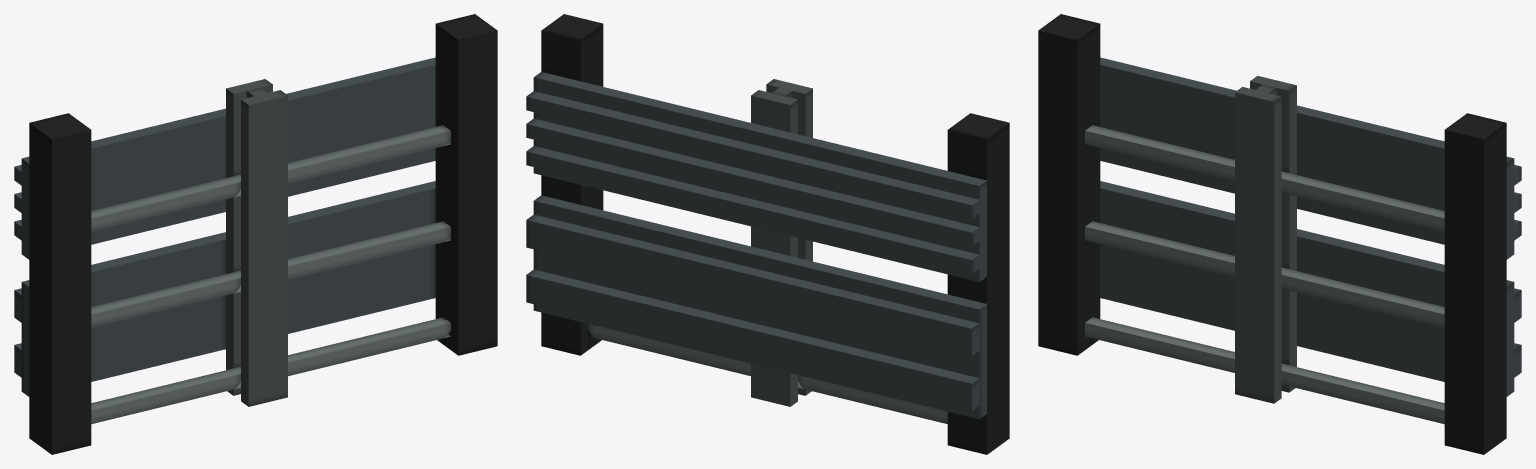
The model's file is Blokada_most_1x.dae.
3 views of the same model, side by side, from view 1: azimuth 30°, elevation 25°; view 2: azimuth 150°, elevation 25°; view 3: azimuth 330°, elevation 25° (orthographic).
Visible parts, largest first — view 1: Content; view 2: Content; view 3: Content.
Part boxes in pixels (x1,y1,x2,y2): Content: [14, 14, 497, 454]; Content: [526, 14, 1009, 454]; Content: [1038, 14, 1521, 454].
Bounding box in the file's own units: 34 × 23 × 5.
1 material, 1 textured.
